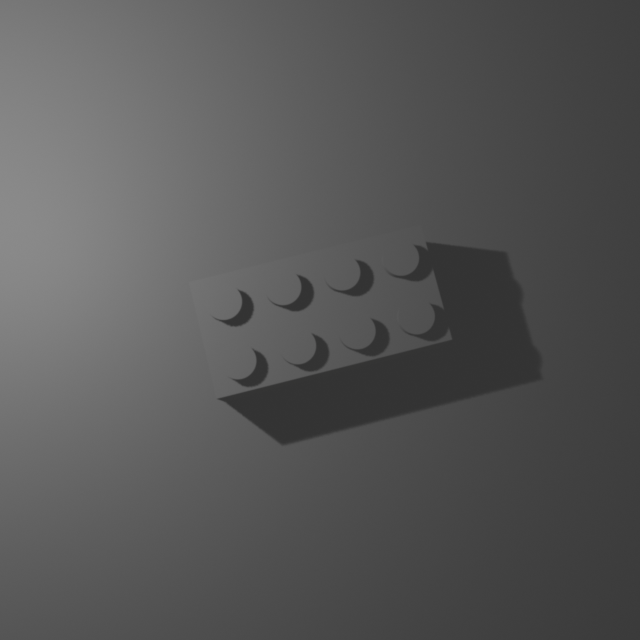lego_2x4: (187, 222, 454, 402)
